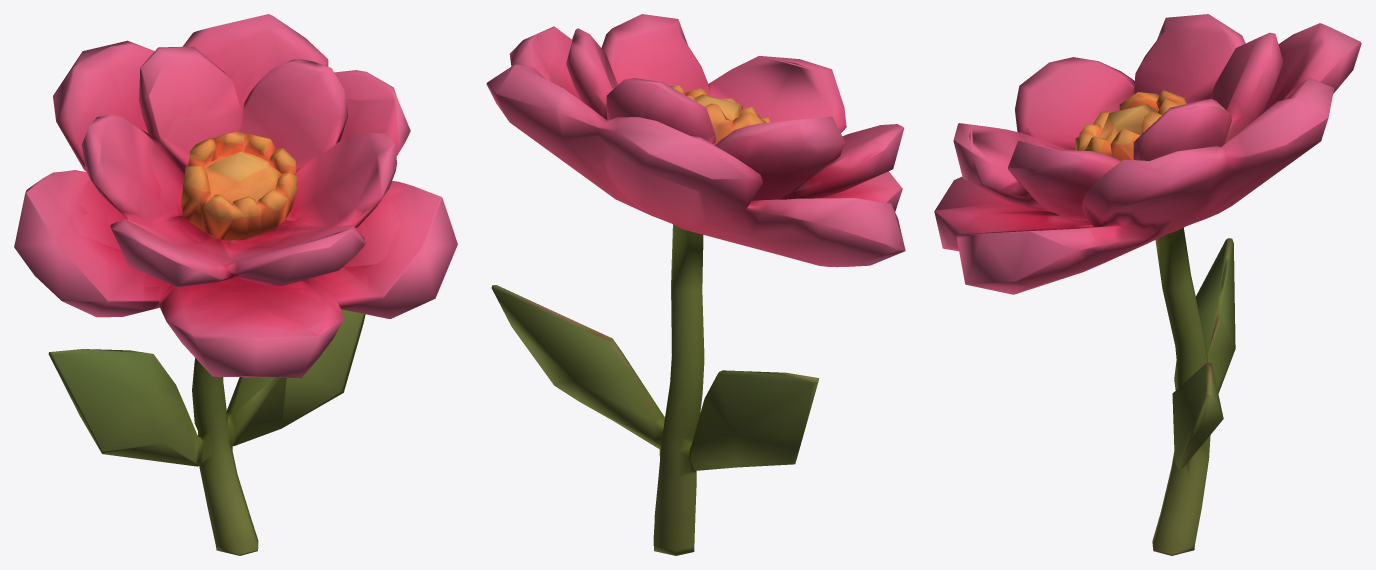
The model's file is flower.glb.
The picture shows the model from 3 angles, left to right: view 1: azimuth 30°, elevation 25°; view 2: azimuth 150°, elevation 25°; view 3: azimuth 270°, elevation 25°; orthographic projection. The views are drawn at different scales.
Parts seen in each view (by area): view 1: material; view 2: material; view 3: material.
Boxes of the visible parts, x1,y1,x2,y2 form: material: (14,14,457,555); material: (486,14,905,555); material: (934,14,1361,555).
Size of the model in its own units: 1.54 by 1.9 by 1.48.
Materials: 1 (1 with a texture image).
